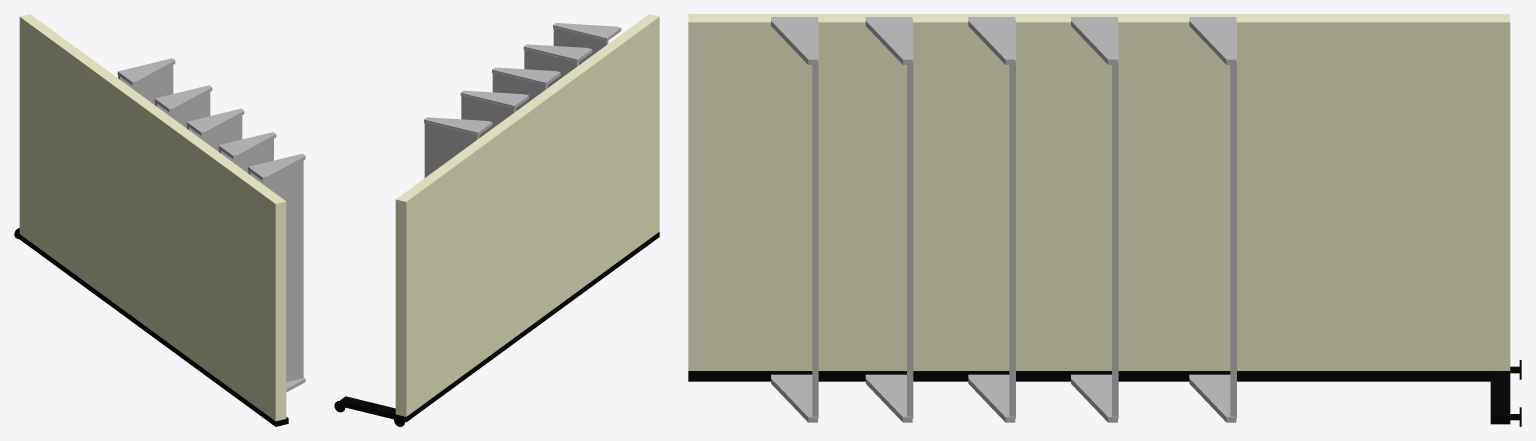
The model's file is nil_link_mesh.dae.
3 views of the same model, side by side, from view 1: azimuth 30°, elevation 25°; view 2: azimuth 150°, elevation 25°; view 3: azimuth 270°, elevation 25° (orthographic). The views are drawn at different scales.
Visible parts, largest first — view 1: nil_link (×7); view 2: nil_link (×8); view 3: nil_link (×8).
Boxes of the visible parts, bbox=[...] form: nil_link (×7): bbox=[19, 14, 305, 426]; nil_link (×8): bbox=[340, 14, 659, 422]; nil_link (×8): bbox=[688, 14, 1510, 424].
Bounding box in the file's own units: 0.4 × 1.24 × 2.54.
